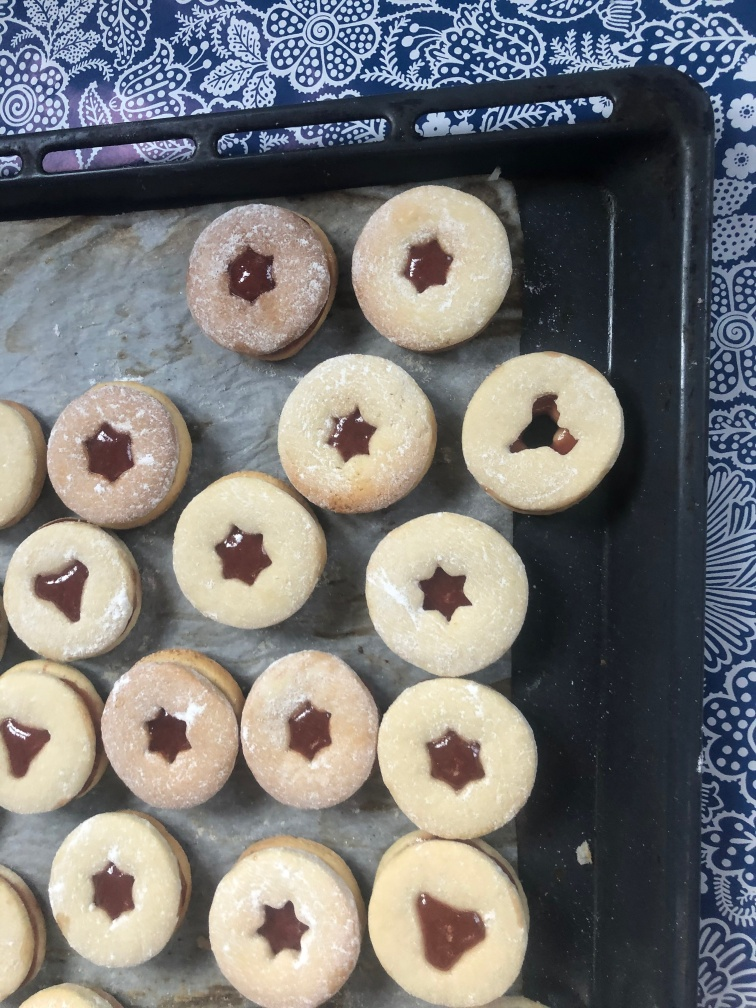christmas shortbread with jam: (368, 835, 531, 1008), (354, 184, 516, 351), (211, 833, 366, 1007), (367, 516, 535, 675), (379, 673, 538, 841), (465, 344, 626, 507), (278, 351, 440, 510), (51, 808, 196, 973), (185, 204, 341, 357), (244, 644, 378, 811), (173, 477, 324, 624), (102, 645, 240, 804), (49, 379, 187, 525), (5, 524, 137, 654), (1, 658, 107, 812)
